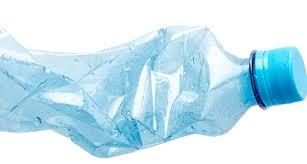plastic: (1, 21, 307, 159)
